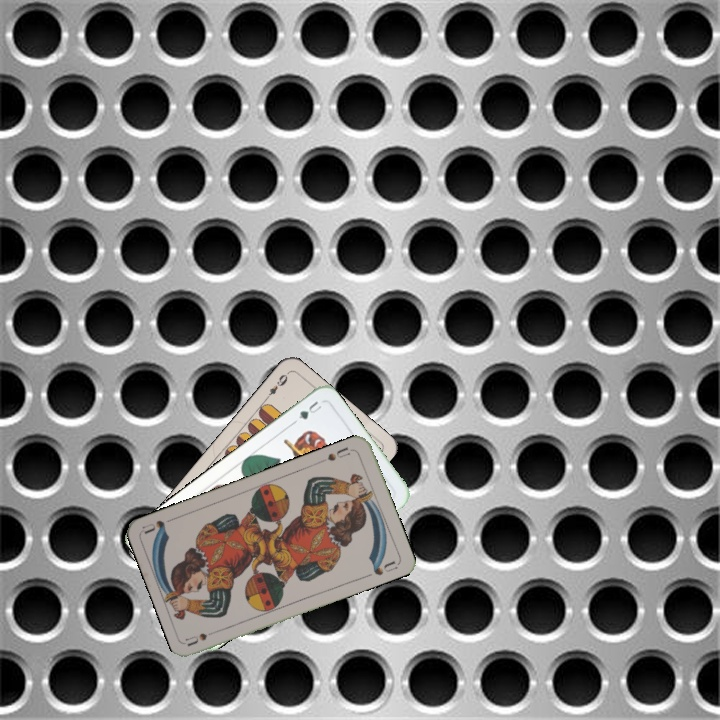E9: (261, 369, 291, 403)
GU: (294, 397, 325, 422)
SU: (183, 625, 223, 649), (317, 443, 356, 465)
